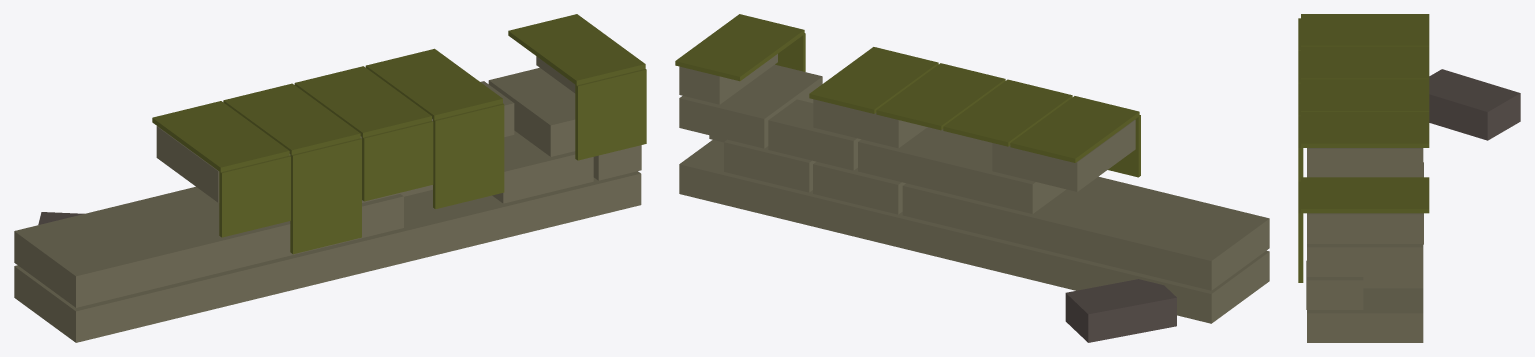
The model's file is SM_PretilTramo_v4_Red_e1_Danado_LOD1.fbx.
The picture shows the model from 3 angles, left to right: view 1: azimuth 30°, elevation 25°; view 2: azimuth 150°, elevation 25°; view 3: azimuth 270°, elevation 25°; orthographic projection. The views are drawn at different scales.
Parts seen in each view (by area): view 1: SM_pretil_azotea_v17_LOD1; view 2: SM_pretil_azotea_v17_LOD1; view 3: SM_pretil_azotea_v17_LOD1.
Part boxes in pixels (<box>): SM_pretil_azotea_v17_LOD1: <box>14,14,646,342</box>; SM_pretil_azotea_v17_LOD1: <box>675,14,1269,342</box>; SM_pretil_azotea_v17_LOD1: <box>1298,14,1520,342</box>.
Size of the model in its own units: 5.07 by 1.24 by 1.83.
